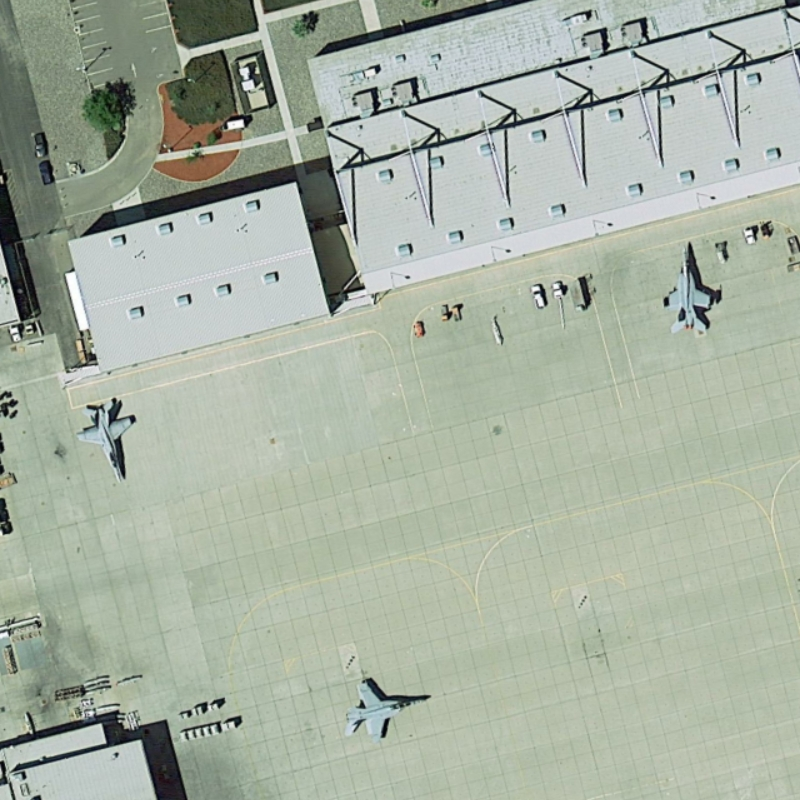A16: (336, 672, 437, 744), (70, 394, 146, 486), (660, 239, 726, 338)
